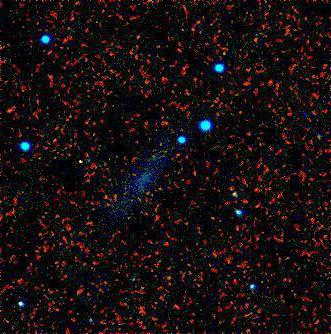star: (64, 147, 94, 177)
